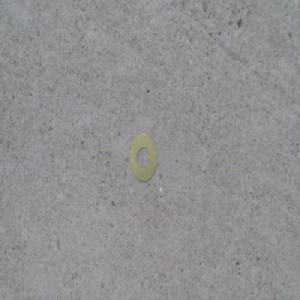Washer: (128, 132, 158, 186)
